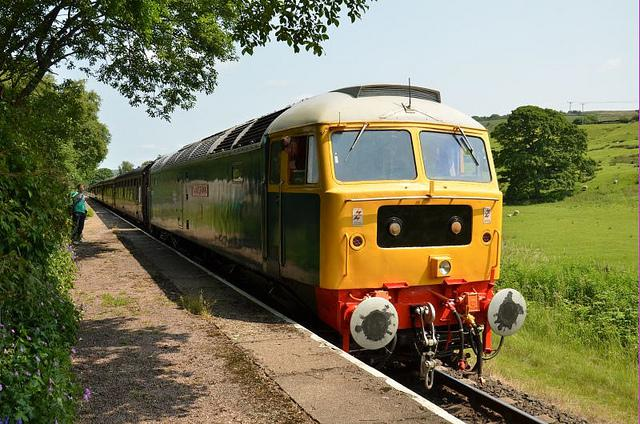Train: (87, 89, 529, 392)
